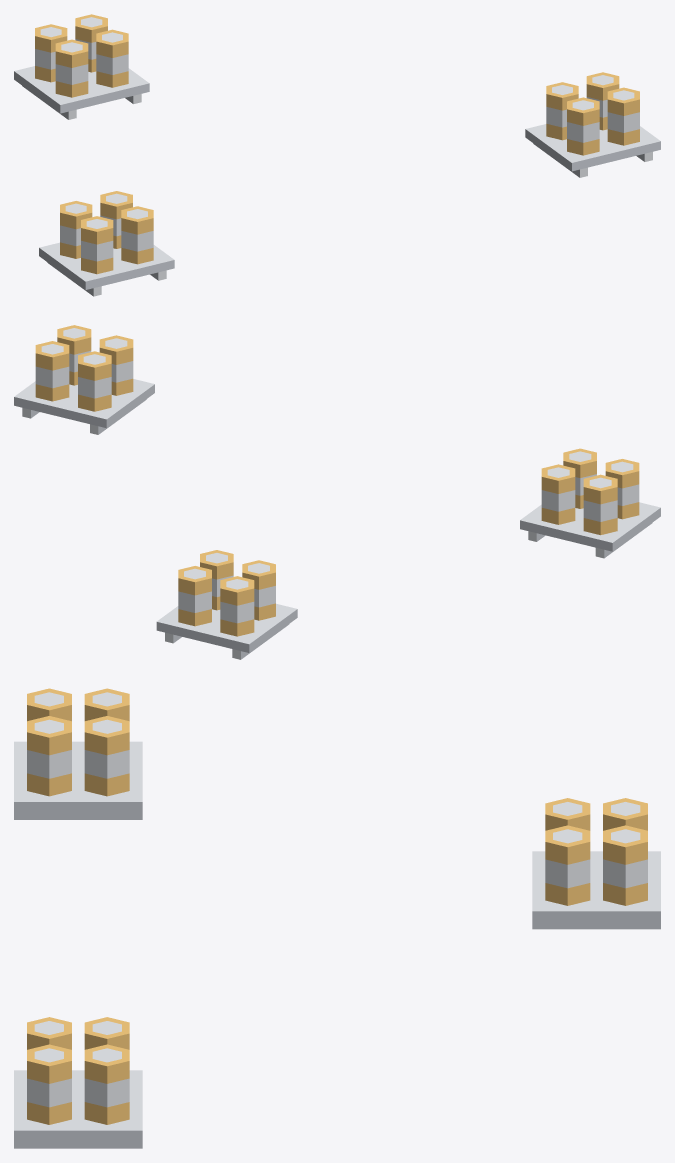
Rendered from composite_barrels.glb.
3 views of the same model, one above another, from view 1: azimuth 30°, elevation 25°; view 2: azimuth 150°, elevation 25°; view 3: azimuth 270°, elevation 25° (orthographic). The views are drawn at different scales.
Visible parts, largest first — view 1: barrels (×3), barrel.004 (×3), barrel.002 (×3), barrel.003 (×3), barrel.001 (×3); view 2: barrels (×3), barrel.003 (×3), barrel.001 (×3), barrel.004 (×3), barrel.002 (×3); view 3: barrels (×3), barrel.001 (×3), barrel.002 (×3), barrel.003 (×3), barrel.004 (×3).
Part boxes in pixels (box(x1,y1,x2,y2)): barrels (×3): box(14, 66, 660, 296); barrel.004 (×3): box(55, 39, 599, 274); barrel.002 (×3): box(96, 29, 639, 264); barrel.003 (×3): box(35, 24, 578, 258); barrel.001 (×3): box(75, 14, 619, 248); barrels (×3): box(14, 379, 660, 659); barrel.003 (×3): box(78, 351, 617, 636); barrel.001 (×3): box(35, 341, 575, 626); barrel.004 (×3): box(99, 335, 639, 620); barrel.002 (×3): box(57, 325, 596, 610); barrels (×3): box(14, 741, 660, 1148); barrel.001 (×3): box(84, 716, 647, 1124); barrel.002 (×3): box(27, 716, 590, 1124); barrel.003 (×3): box(84, 688, 647, 1049); barrel.004 (×3): box(27, 688, 590, 1049).
Size of the model in its own units: 3.55 by 0.35 by 2.5.
